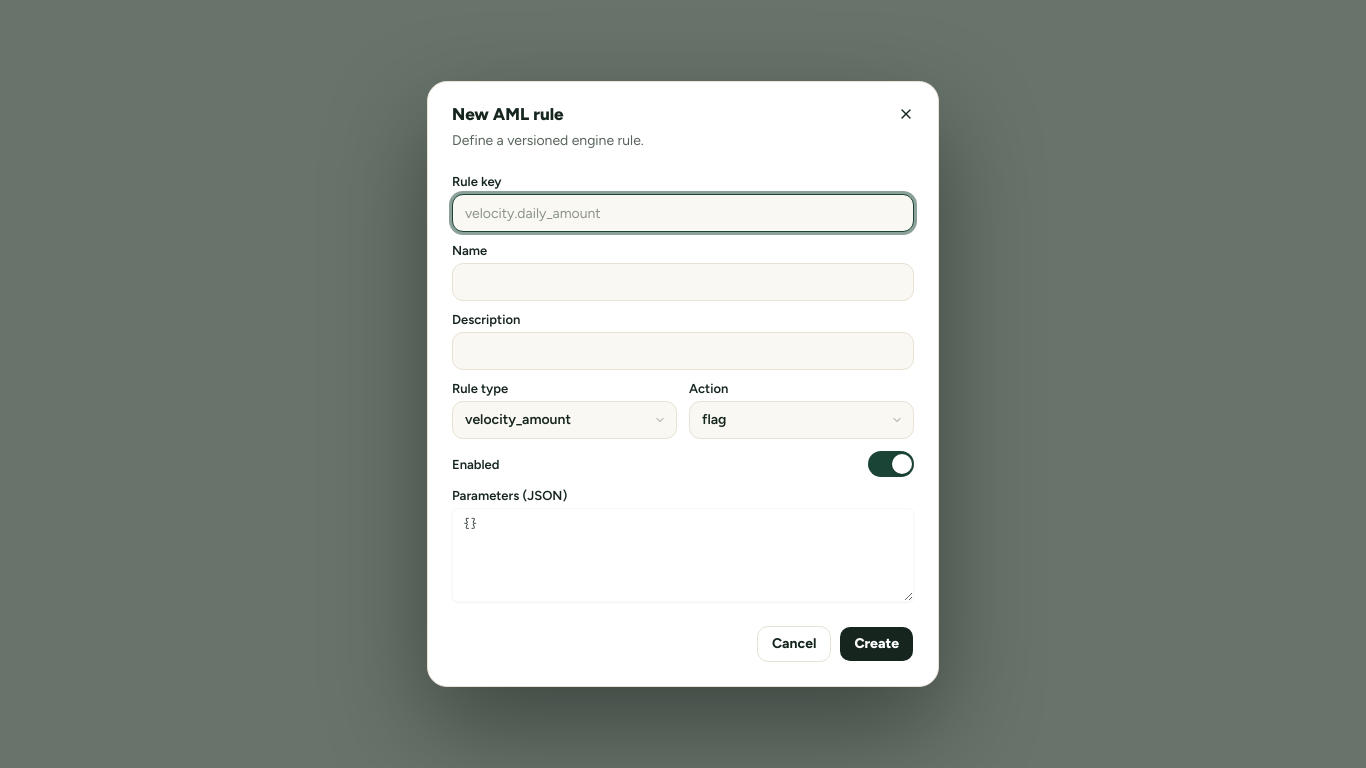
Test: AmlRuleDialog › surfaces an invalid-parameters error inline without firing a request
Type "velocity.test" into the field labelled "Rule key" at (683, 213), box top-left (452, 194), bottom-right (914, 232)
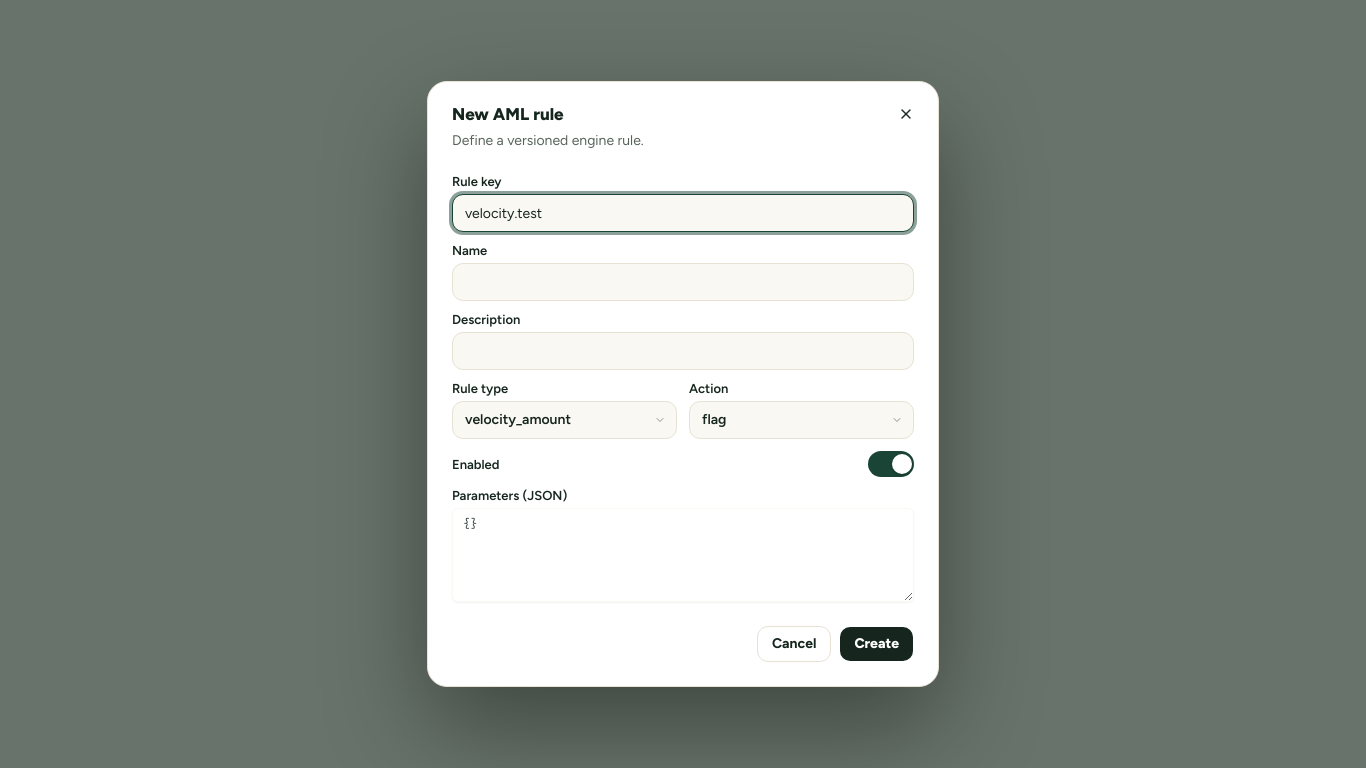
Type "Test" into the field labelled "Name" at (683, 282), box top-left (452, 263), bottom-right (914, 301)
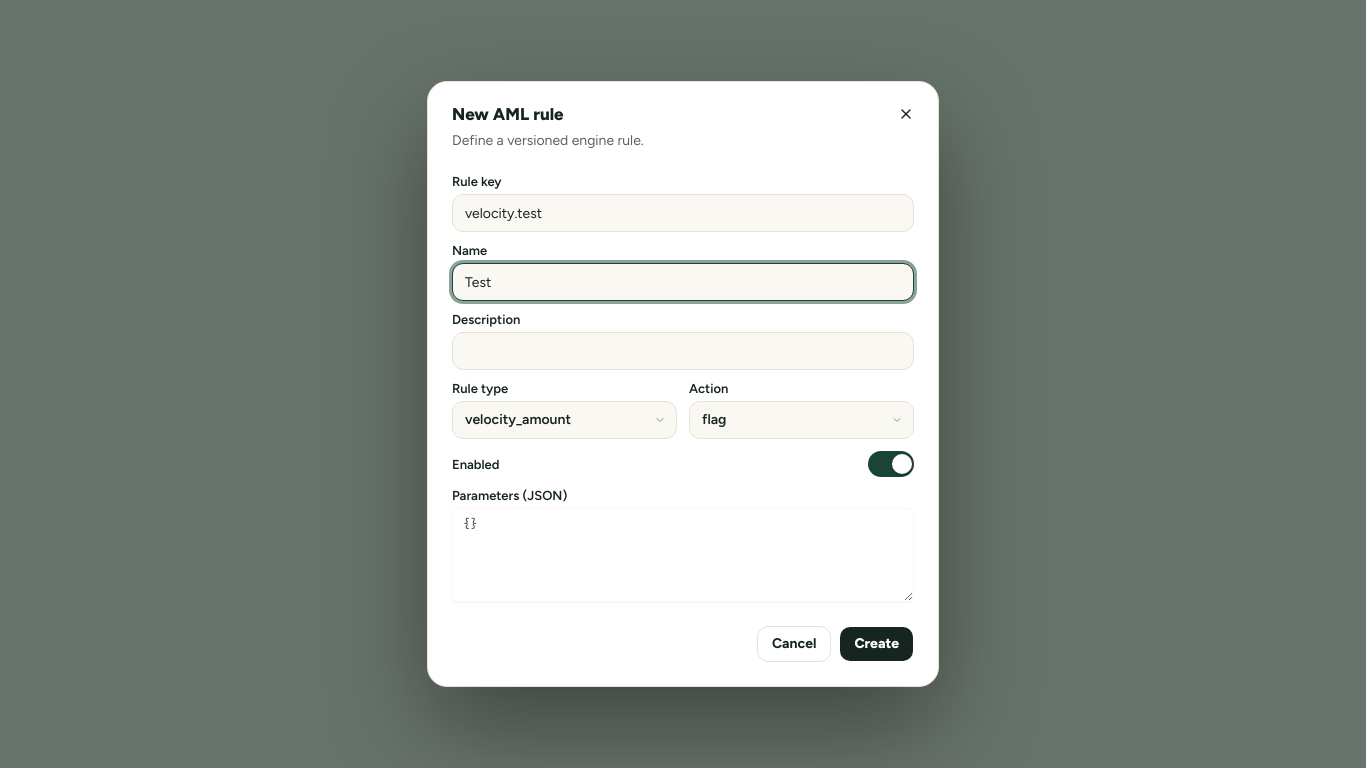
Type "desc" into the field labelled "Description" at (683, 351), box top-left (452, 332), bottom-right (914, 370)
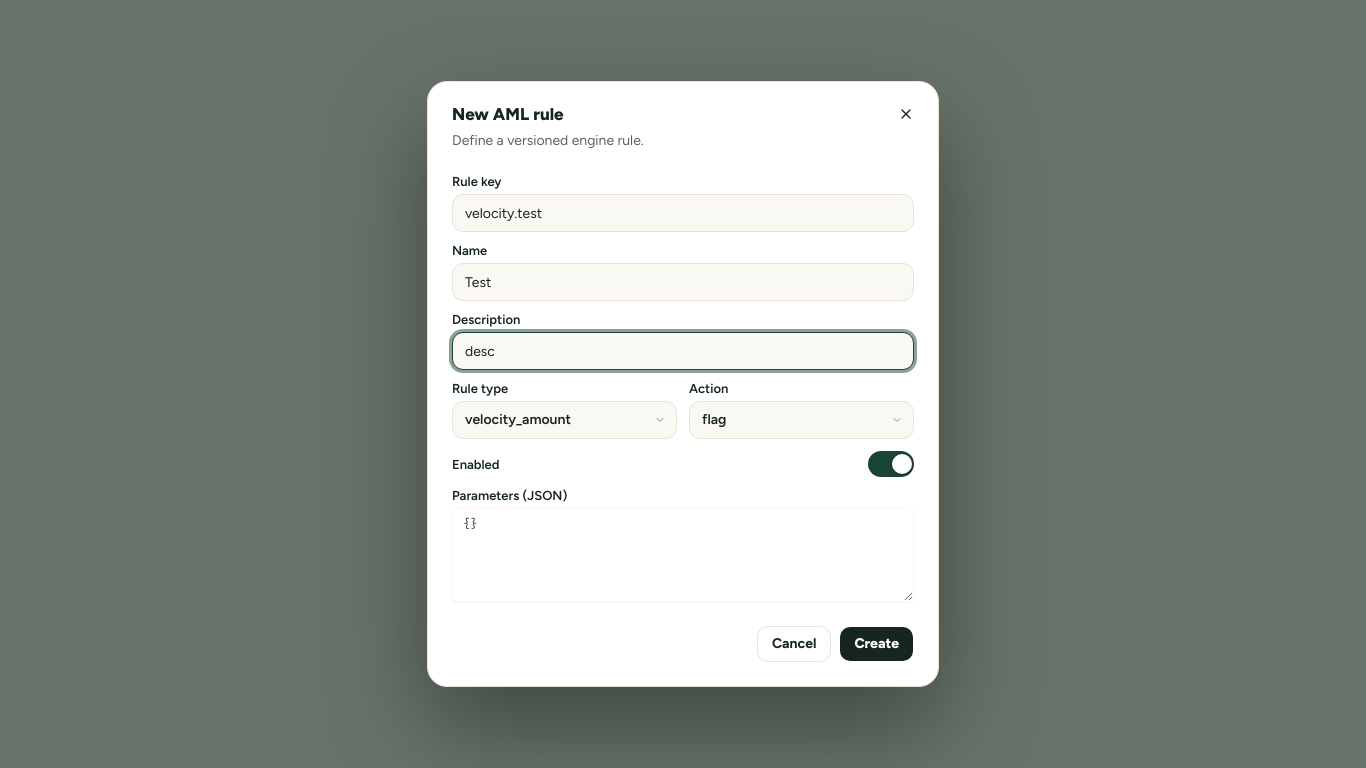
Replace the text in the text box labelled "Parameters (JSON)" with "not json" at (683, 555), box top-left (452, 508), bottom-right (914, 602)
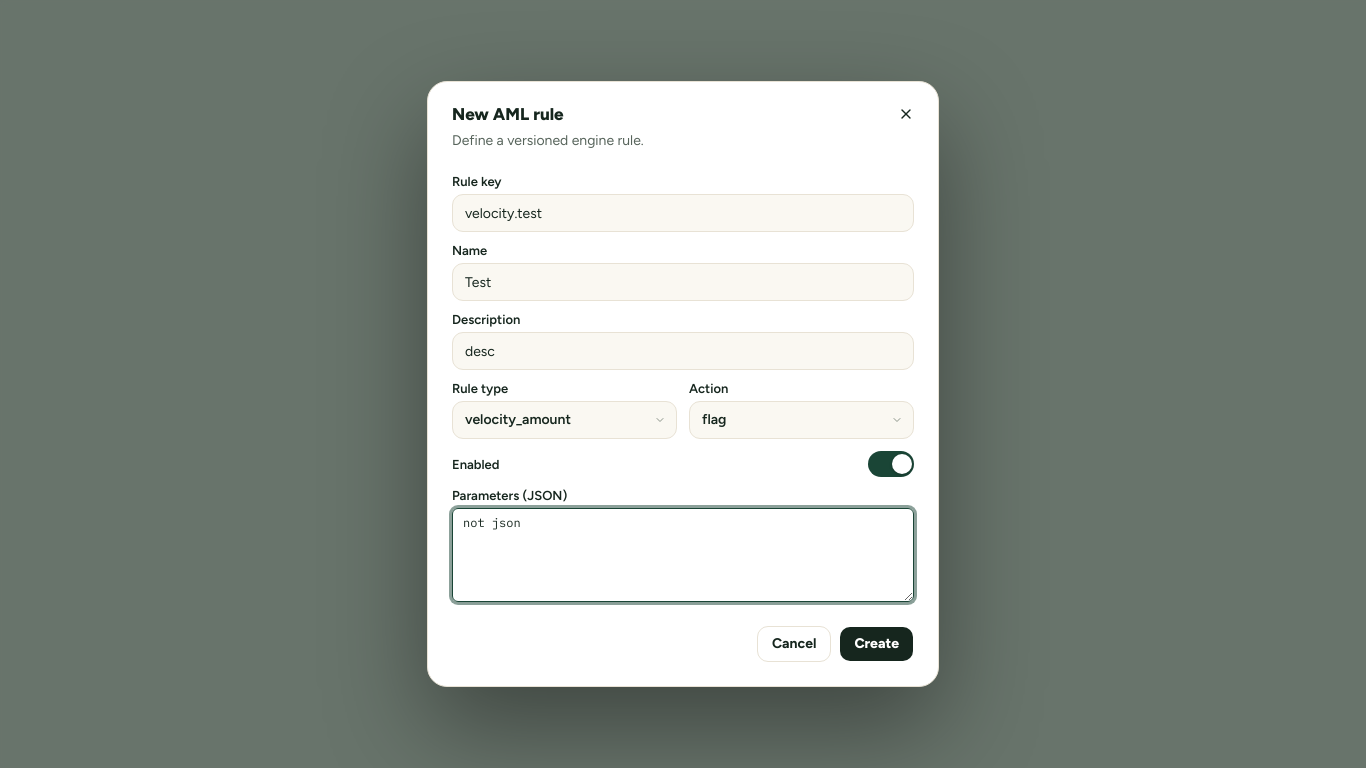
Click the button "Create" at (877, 644), box top-left (839, 626), bottom-right (914, 662)
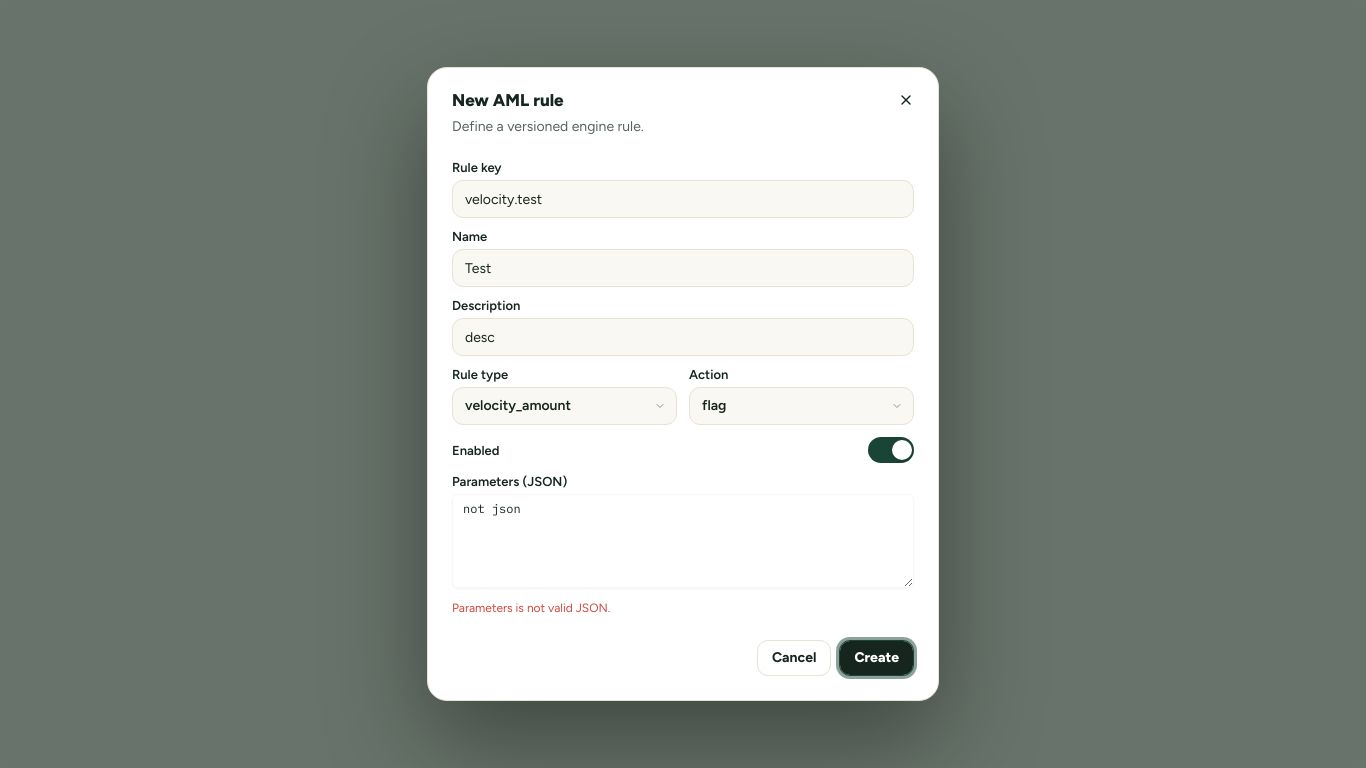
Now the message shows "not valid JSON", box top-left (452, 601), bottom-right (610, 615)
